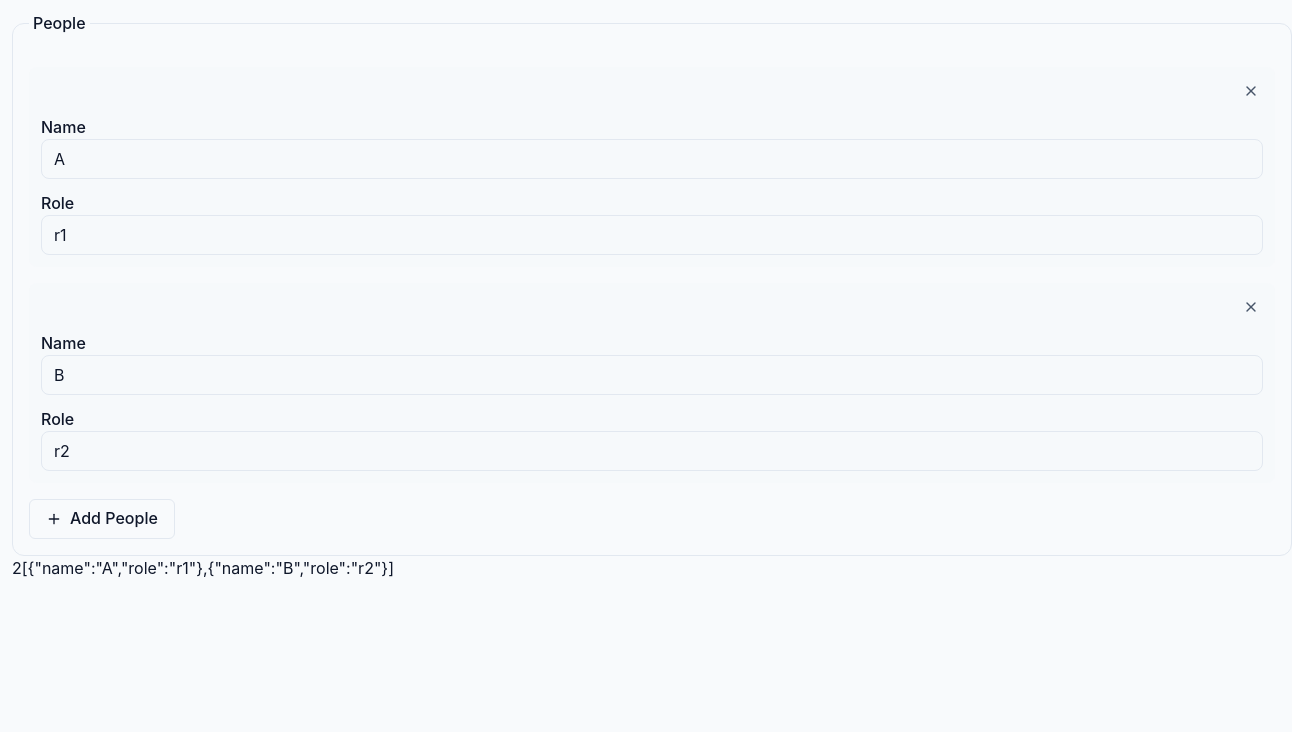
Test: RepeatableFieldset › removes the targeted row by index
Click the button named "Remove People entry 1". click: (1251, 91)
box: [1239,79,1263,103]
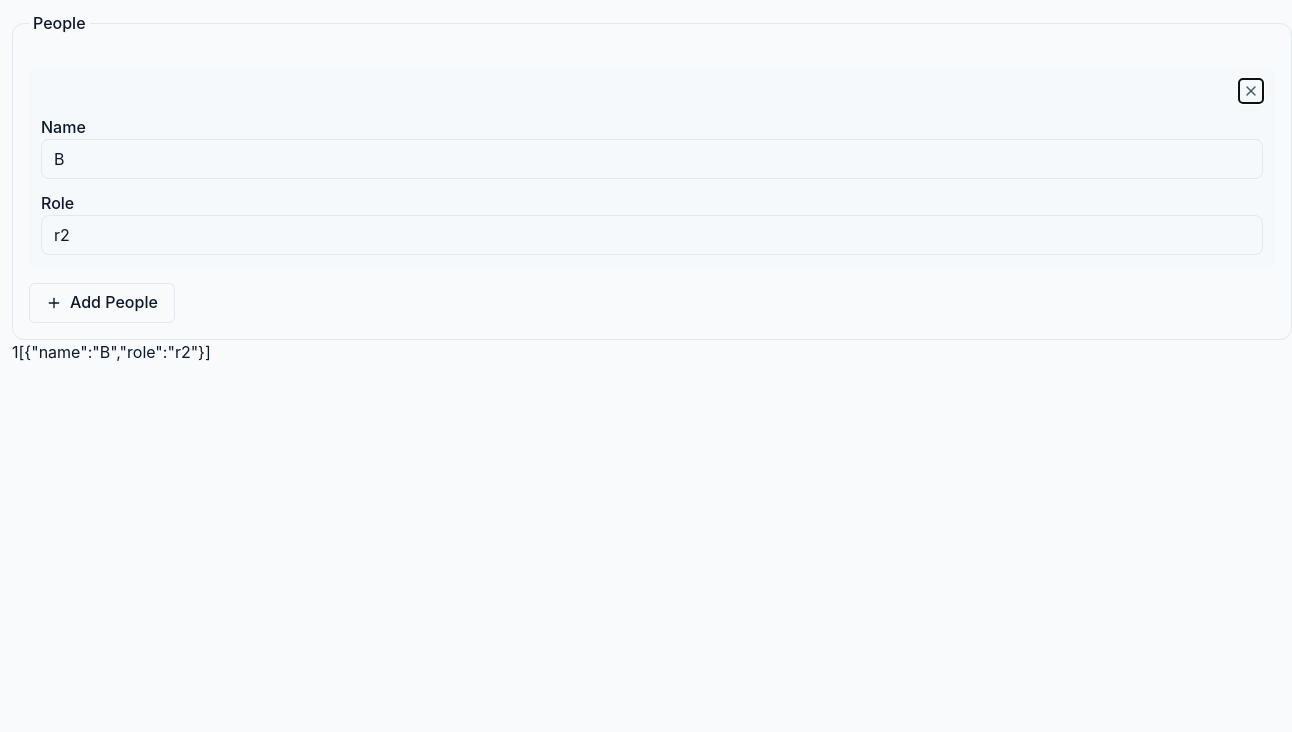
Check: the text with test id "dump" reads "[{\"name\":\"B\",\"role\":\"r2\"}]", box [18,342,211,362]
